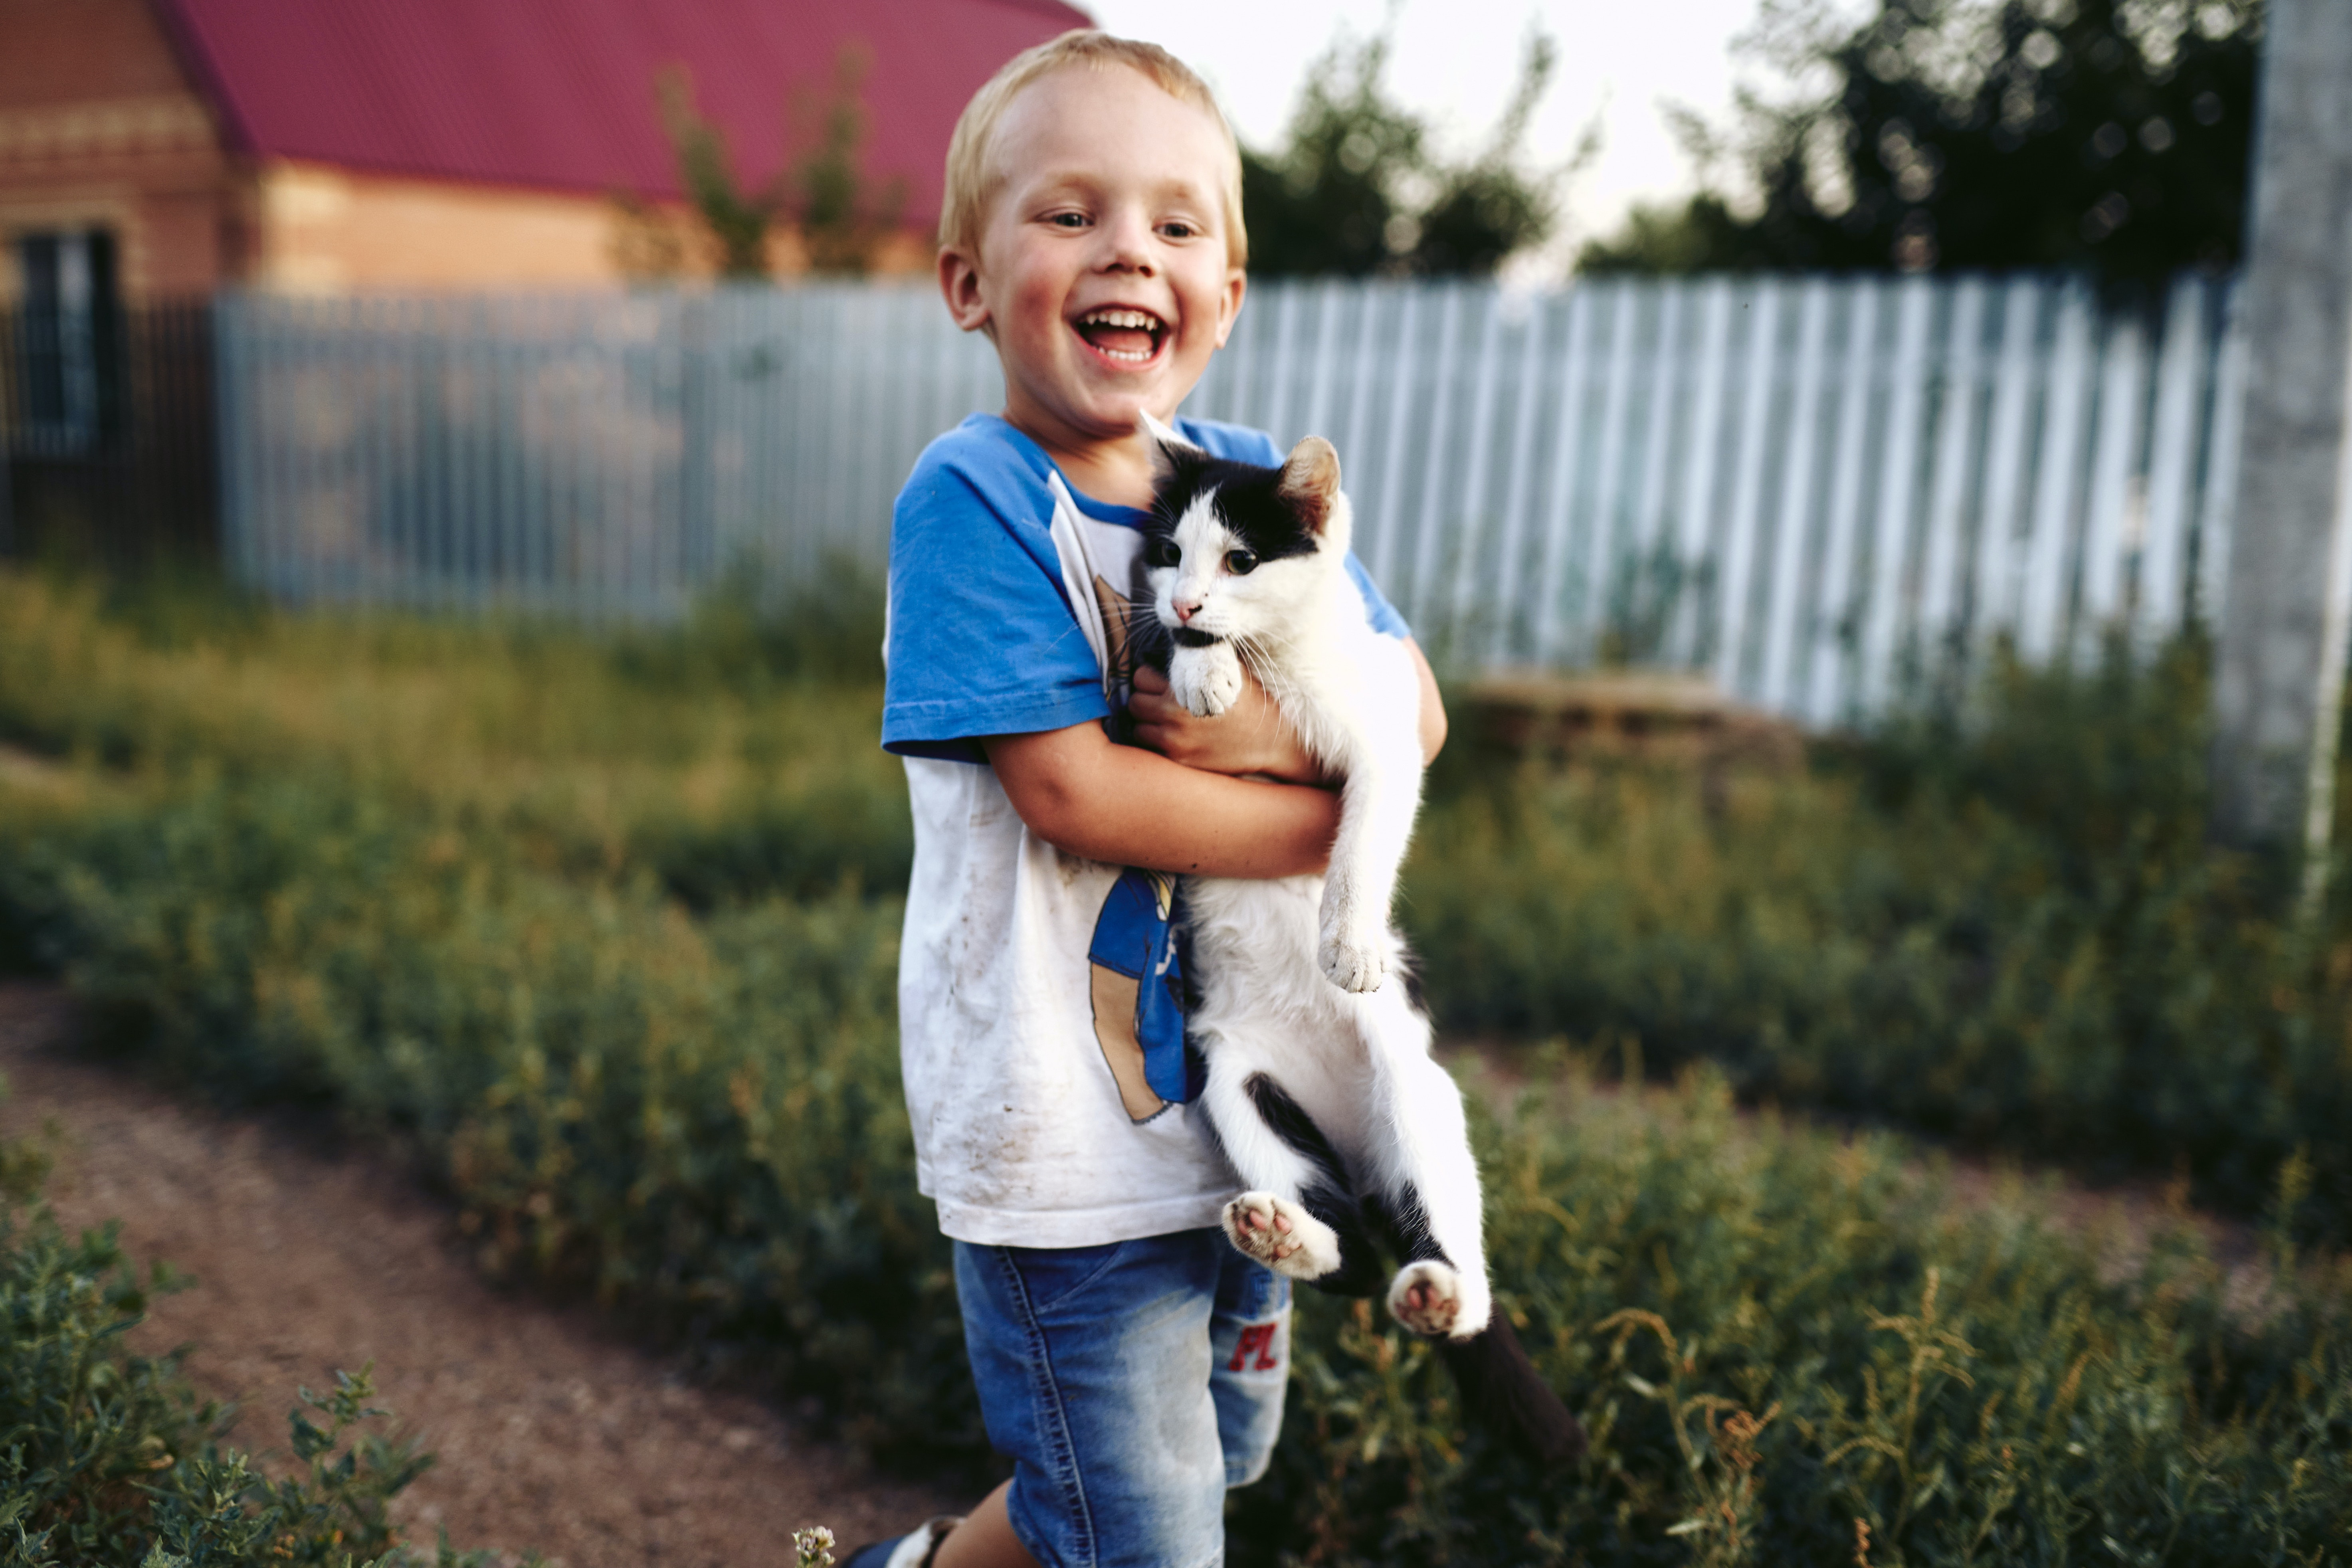cat: (1135, 435, 1493, 1332)
person: (895, 36, 1297, 1568)
